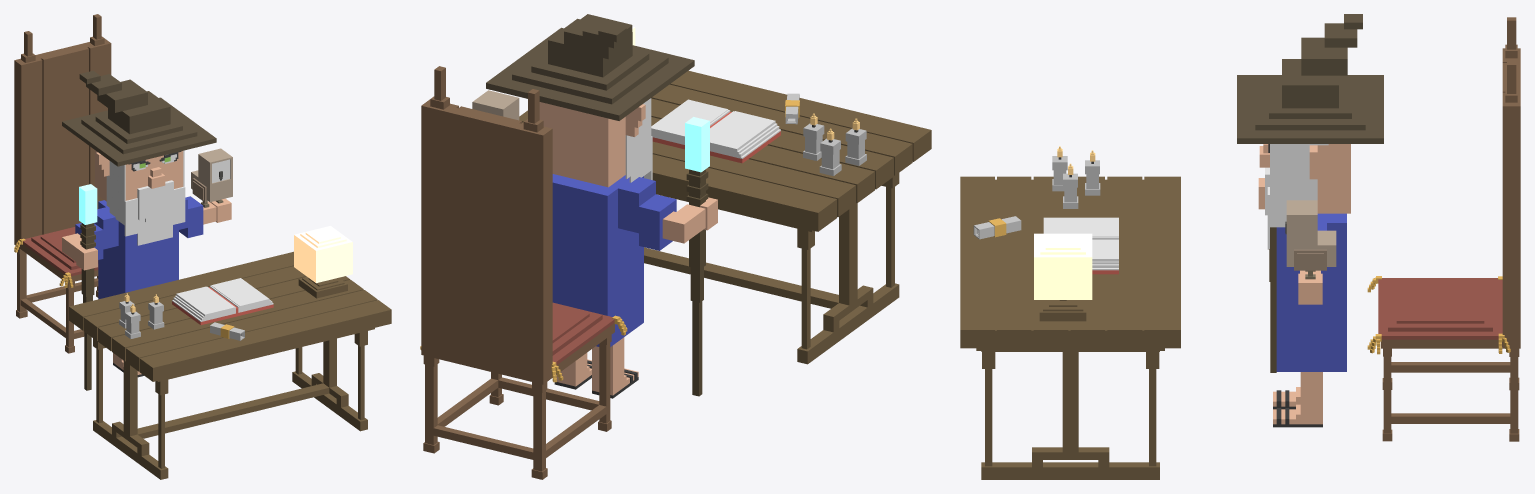
File: wiz_master.glb
The picture shows the model from 3 angles, left to right: view 1: azimuth 30°, elevation 25°; view 2: azimuth 150°, elevation 25°; view 3: azimuth 270°, elevation 25°; orthographic projection. The views are drawn at different scales.
Parts seen in each view (by area): view 1: Cube.034, Cube.036, Cube.035, Cube.002, Cube.015, Cube.038, Cube.037, Cube.022, Cube.011, Cube.001, Cube.031, Cube.003 (+11 smaller); view 2: Cube.036, Cube.034, Cube.015, Cube.035, Cube.002, Cube.001, Cube.037, Cube.022, Plane.001, Cube.003, Cube.011, Cube.017 (+9 smaller); view 3: Cube.034, Cube.036, Cube.035, Cube.002, Plane.001, Cube.015, Cube.038, Cube.272, Cube.037, Cube.001, Cube.031, Cube.003 (+10 smaller).
Boxes of the visible parts, left/top/right/bottom form: Cube.034: left=69, top=251, right=391, bottom=381; Cube.036: left=14, top=14, right=111, bottom=353; Cube.035: left=93, top=328, right=374, bottom=479; Cube.002: left=62, top=97, right=216, bottom=166; Cube.015: left=98, top=200, right=178, bottom=299; Cube.038: left=294, top=226, right=352, bottom=298; Cube.037: left=172, top=278, right=273, bottom=324; Cube.022: left=79, top=184, right=97, bottom=390; Cube.011: left=106, top=161, right=155, bottom=245; Cube.001: left=95, top=150, right=183, bottom=201; Cube.031: left=191, top=148, right=232, bottom=202; Cube.003: left=108, top=91, right=170, bottom=134; Cube.036: left=421, top=66, right=614, bottom=479; Cube.034: left=519, top=70, right=931, bottom=231; Cube.015: left=552, top=174, right=643, bottom=346; Cube.035: left=644, top=173, right=899, bottom=364; Cube.002: left=486, top=27, right=694, bottom=120; Cube.001: left=539, top=102, right=625, bottom=187; Cube.037: left=651, top=99, right=780, bottom=163; Cube.022: left=685, top=117, right=709, bottom=396; Plane.001: left=552, top=302, right=614, bottom=365; Cube.003: left=548, top=18, right=632, bottom=77; Cube.011: left=625, top=98, right=652, bottom=182; Cube.017: left=639, top=194, right=676, bottom=250; Cube.034: left=960, top=176, right=1180, bottom=348; Cube.036: left=1381, top=17, right=1520, bottom=441; Cube.035: left=976, top=345, right=1164, bottom=479; Cube.002: left=1237, top=75, right=1383, bottom=143; Plane.001: left=1378, top=278, right=1502, bottom=339; Cube.015: left=1276, top=213, right=1346, bottom=371; Cube.038: left=1034, top=233, right=1092, bottom=321; Cube.272: left=1267, top=144, right=1328, bottom=248; Cube.037: left=1043, top=217, right=1118, bottom=274; Cube.001: left=1317, top=144, right=1350, bottom=213; Cube.031: left=1286, top=200, right=1336, bottom=266; Cube.003: left=1282, top=59, right=1338, bottom=108.
Size of the model in its own units: 4.04 by 4.59 by 6.24.
